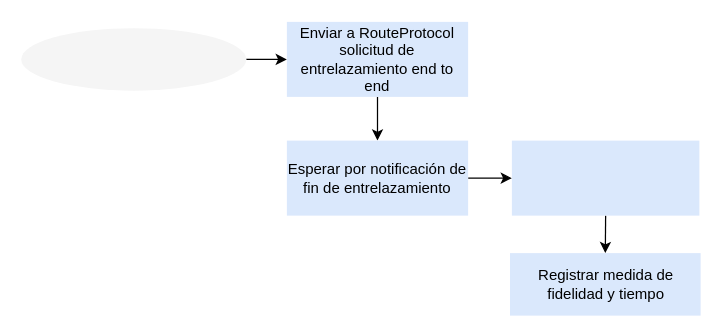
The diagram is 723 pixels wide and 336 high, and some of its shapes have lost their labels. Each missing label, with the box of its shape:
Inicio medida de fidelidad: (21, 28, 246, 90)
Medir fidelidad qubits en nodo origen y destino respecto de par perfecto: (511, 140, 699, 215)
